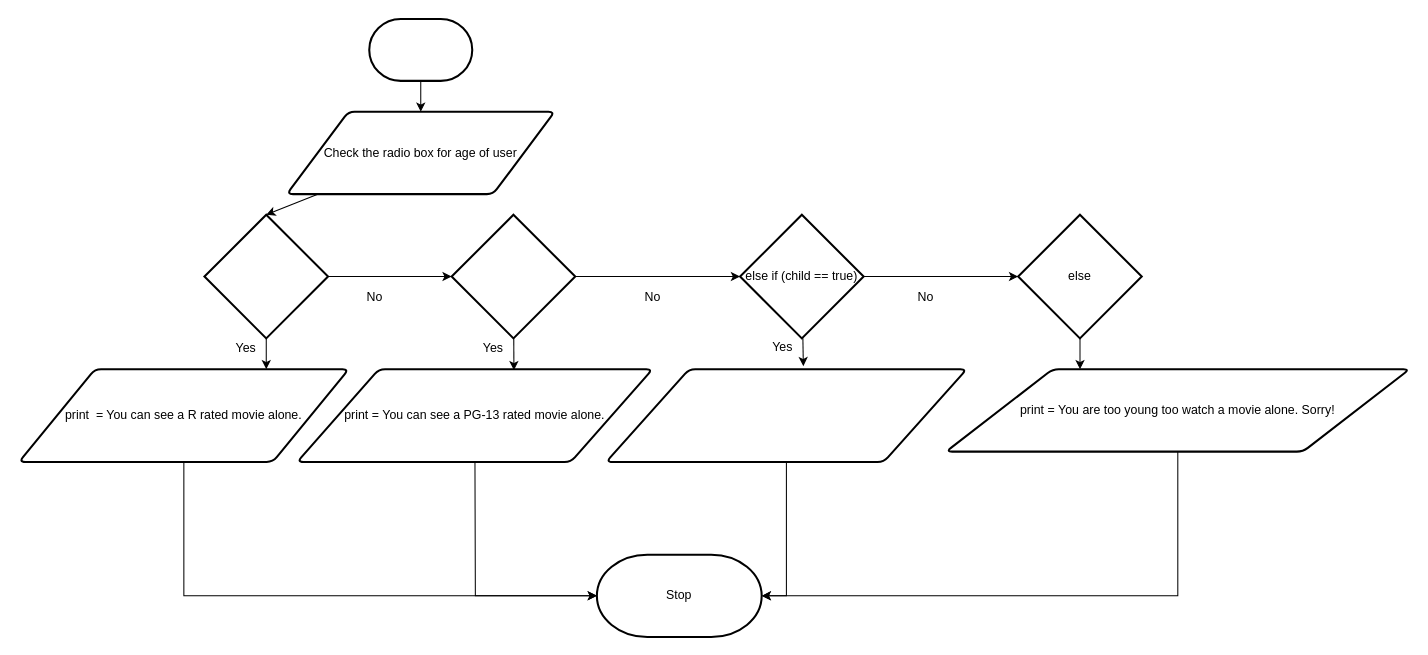
This 1428x655 diagram has some shape labels left out. The box of each missing label's shape, as (x1, y1, x2, y2) in pixels:
else if (teen == true): (450, 213, 576, 339)
if (adult == true): (203, 213, 329, 339)
print = You can see a G or PG rated movie alone.: (605, 368, 967, 462)
Start: (368, 18, 473, 81)
